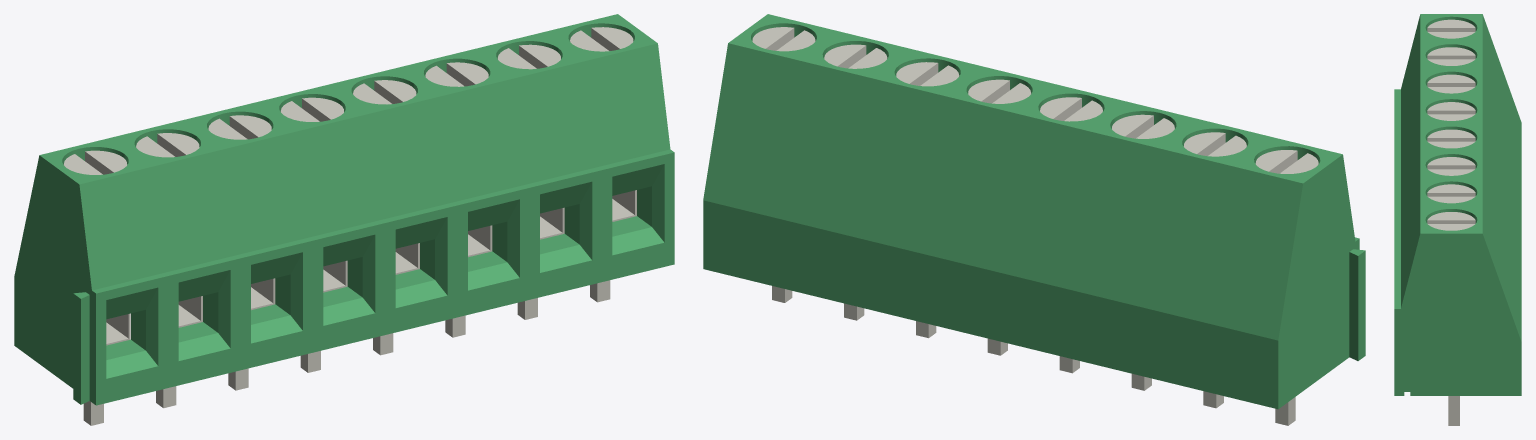
File: kc-terminalblock_phoenix_mkds-1_5-8_1x08_p5.00mm_horizontal.glb
3 renders of one model, left to right at view 1: azimuth 30°, elevation 25°; view 2: azimuth 150°, elevation 25°; view 3: azimuth 270°, elevation 25°, orthographic. The views are drawn at different scales.
Visible parts, largest first — view 1: 0.08333333333333333_0.4166666666666667_0.16666666666666666_0, 0.6666666666666666_0.6666666666666666_0.5833333333333334_0.8; view 2: 0.08333333333333333_0.4166666666666667_0.16666666666666666_0, 0.6666666666666666_0.6666666666666666_0.5833333333333334_0.8; view 3: 0.08333333333333333_0.4166666666666667_0.16666666666666666_0, 0.6666666666666666_0.6666666666666666_0.5833333333333334_0.8.
Boxes of the visible parts, x1,y1,x2,y2 form: 0.08333333333333333_0.4166666666666667_0.16666666666666666_0: [14, 14, 674, 405]; 0.6666666666666666_0.6666666666666666_0.5833333333333334_0.8: [63, 27, 636, 425]; 0.08333333333333333_0.4166666666666667_0.16666666666666666_0: [703, 14, 1365, 409]; 0.6666666666666666_0.6666666666666666_0.5833333333333334_0.8: [752, 27, 1318, 425]; 0.08333333333333333_0.4166666666666667_0.16666666666666666_0: [1394, 14, 1521, 395]; 0.6666666666666666_0.6666666666666666_0.5833333333333334_0.8: [1427, 19, 1475, 425].
Size of the model in its own units: 4.07 by 1.73 by 0.9797.
